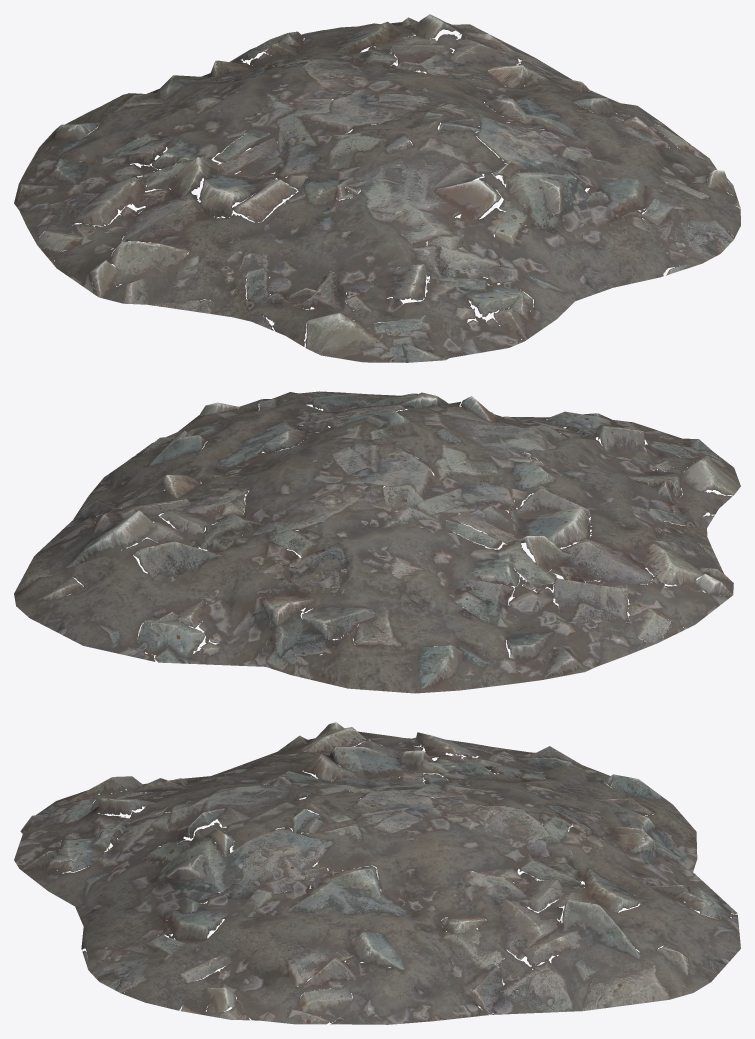
3 renders of one model, top to bottom at view 1: azimuth 30°, elevation 25°; view 2: azimuth 150°, elevation 25°; view 3: azimuth 270°, elevation 25°, orthographic. The views are drawn at different scales.
Parts seen in each view (by area): view 1: SM_SaradominTemple_Rubble_02_v6_LOD0; view 2: SM_SaradominTemple_Rubble_02_v6_LOD0; view 3: SM_SaradominTemple_Rubble_02_v6_LOD0.
Boxes of the visible parts, bbox=[...] form: SM_SaradominTemple_Rubble_02_v6_LOD0: bbox=[14, 14, 740, 362]; SM_SaradominTemple_Rubble_02_v6_LOD0: bbox=[14, 391, 740, 693]; SM_SaradominTemple_Rubble_02_v6_LOD0: bbox=[14, 722, 740, 1024].
Bounding box in the file's own units: 4.19 × 0.6239 × 4.48.
Materials: 1 (1 with a texture image).
